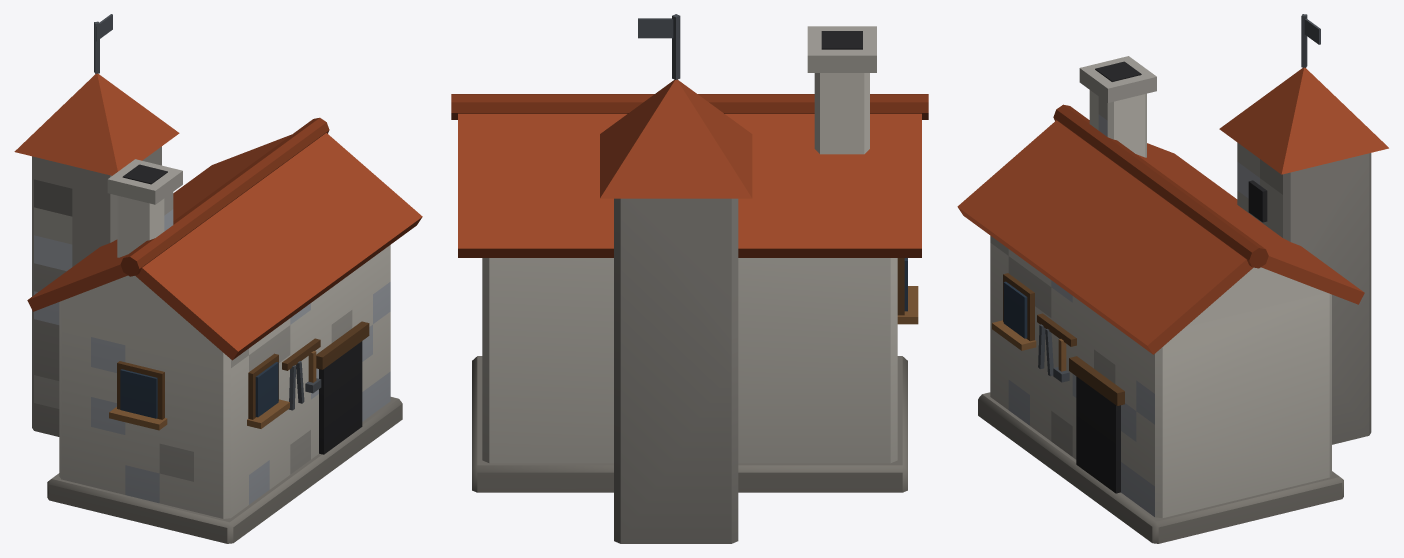
The model's file is building_19.glb.
3 renders of one model, left to right at view 1: azimuth 30°, elevation 25°; view 2: azimuth 150°, elevation 25°; view 3: azimuth 270°, elevation 25°, orthographic. The views are drawn at different scales.
Visible parts, largest first — view 1: building_19; view 2: building_19; view 3: building_19.
Part boxes in pixels (bbox=[...]): building_19: bbox=[14, 14, 422, 543]; building_19: bbox=[451, 14, 928, 543]; building_19: bbox=[957, 14, 1388, 543].
Bounding box in the file's own units: 0.8014 × 0.8 × 0.7618.
